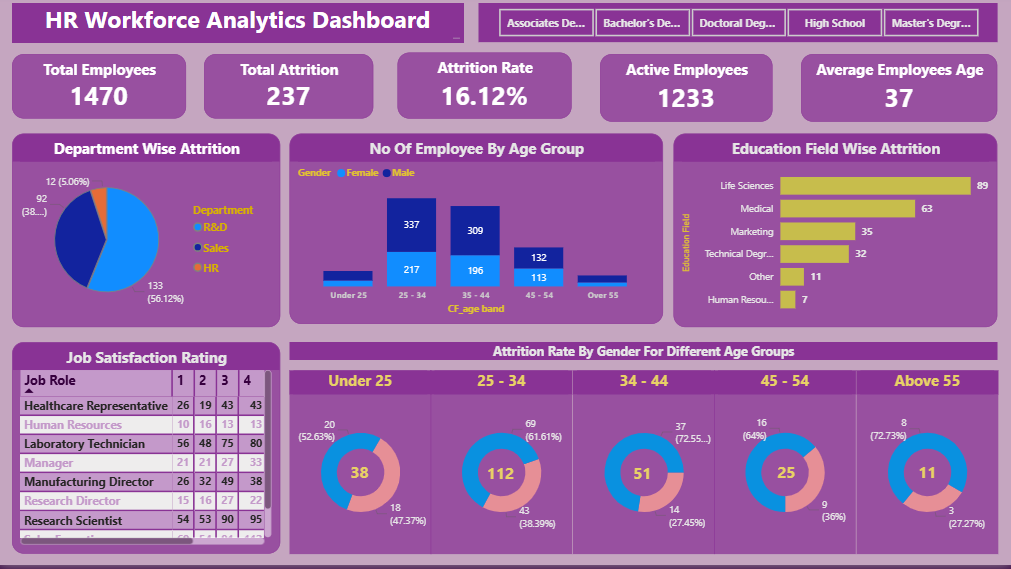

This screenshot's page, from the dashboard's own definition file:
{"tool":"powerbi","page":{"name":"Page 1","canvas":[1280,720],"ordinal":0},"visuals":[{"type":"card","title":"Total Employees","fields":{"Values":["Sum(HR data.Employee Count)"]},"box":[18.9,75.6,219.2,81.3],"z":0},{"type":"card","title":"Total Attrition","fields":{"Values":["Sum(HR data.Attrition Count)"]},"box":[260.8,75.6,213.5,81.3],"z":1000},{"type":"card","title":"Attrition Rate","fields":{"Values":["HR data.Attrition Rate"]},"box":[504.6,73.7,219.2,83.2],"z":2000},{"type":"card","title":"Active Employees","fields":{"Values":["HR data.Active Employees"]},"box":[759.7,75.6,217.3,85],"z":3000},{"type":"card","title":"Average Employees Age","fields":{"Values":["Avg(HR data.Age)"]},"box":[1012.9,75.6,247.6,85],"z":4000},{"type":"pieChart","title":"Department Wise Attrition ","fields":{"Category":["HR data.Department"],"Y":["Sum(HR data.Attrition Count)"]},"box":[18.9,175.7,338.3,243.8],"z":5000},{"type":"columnChart","title":"No Of Employee By Age Group","fields":{"Category":["HR data.CF_age band"],"Y":["Sum(HR data.Employee Count)"],"Series":["HR data.Gender"]},"box":[368.5,175.7,470.6,240],"z":6000},{"type":"pivotTable","title":"Job Satisfaction Rating","fields":{"Rows":["HR data.Job Role"],"Columns":["HR data.Job Satisfaction"],"Values":["Sum(HR data.Employee Count)"]},"box":[18.9,438.4,338.3,266.5],"z":7000},{"type":"barChart","title":"Education Field Wise Attrition  ","fields":{"Category":["HR data.Education Field"],"Y":["Sum(HR data.Attrition Count)"]},"box":[852.3,175.7,408.2,243.8],"z":8000},{"type":"donutChart","title":"Under 25","fields":{"Category":["HR data.Gender"],"Y":["Sum(HR data.Attrition Count)"],"Series":["HR data.CF_age band"]},"box":[368.2,474.5,178.4,231.6],"z":9000},{"type":"textbox","title":"Attrition Rate By Gender For Different Age Groups","box":[368.2,438.5,892.1,22.8],"z":10000},{"type":"donutChart","title":"25 - 34","fields":{"Category":["HR data.Gender"],"Y":["Sum(HR data.Attrition Count)"],"Series":["HR data.CF_age band"]},"box":[546.7,474.5,178.4,231.6],"z":11000},{"type":"donutChart","title":"34 - 44","fields":{"Category":["HR data.Gender"],"Y":["Sum(HR data.Attrition Count)"],"Series":["HR data.CF_age band"]},"box":[725.1,474.5,178.4,231.6],"z":12000},{"type":"donutChart","title":"45 - 54","fields":{"Category":["HR data.Gender"],"Y":["Sum(HR data.Attrition Count)"],"Series":["HR data.CF_age band"]},"box":[903.5,474.5,178.4,231.6],"z":13000},{"type":"donutChart","title":"Above 55","fields":{"Category":["HR data.Gender"],"Y":["Sum(HR data.Attrition Count)"],"Series":["HR data.CF_age band"]},"box":[1082,474.5,178.4,231.6],"z":14000},{"type":"card","fields":{"Values":["Sum(HR data.Attrition Count)"]},"box":[606.6,578.3,54.8,52.9],"z":15000},{"type":"card","fields":{"Values":["Sum(HR data.Attrition Count)"]},"box":[429,576.4,54.8,52.9],"z":16000},{"type":"card","fields":{"Values":["Sum(HR data.Attrition Count)"]},"box":[784.3,578.3,56.7,52.9],"z":17000},{"type":"card","fields":{"Values":["Sum(HR data.Attrition Count)"]},"box":[960,576.4,68,52.9],"z":18000},{"type":"card","fields":{"Values":["Sum(HR data.Attrition Count)"]},"box":[1143.3,576.4,56.7,52.9],"z":19000},{"type":"textbox","title":"HR Workforce Analytics Dashboard","box":[18.9,11.3,568.8,49.1],"z":20000},{"type":"slicer","fields":{"Values":["HR data.Education"]},"box":[606.6,11.3,653.9,49.1],"z":21000}]}

Visuals, with their boxes in screenshot pixels (x1, y1, x2, y2), scaled from the page's 1280x720 canvas onto the 1011x569 screenshot:
"Total Employees" card: (15,60,188,124)
"Total Attrition" card: (206,60,375,124)
"Attrition Rate" card: (399,58,572,124)
"Active Employees" card: (600,60,772,127)
"Average Employees Age" card: (800,60,996,127)
"Department Wise Attrition " pieChart: (15,139,282,332)
"No Of Employee By Age Group" columnChart: (291,139,663,329)
"Job Satisfaction Rating" pivotTable: (15,346,282,557)
"Education Field Wise Attrition  " barChart: (673,139,996,332)
"Under 25" donutChart: (291,375,432,558)
"Attrition Rate By Gender For Different Age Groups" textbox: (291,347,995,365)
"25 - 34" donutChart: (432,375,573,558)
"34 - 44" donutChart: (573,375,714,558)
"45 - 54" donutChart: (714,375,855,558)
"Above 55" donutChart: (855,375,996,558)
card - Sum(HR data.Attrition Count): (479,457,522,499)
card - Sum(HR data.Attrition Count): (339,456,382,497)
card - Sum(HR data.Attrition Count): (619,457,664,499)
card - Sum(HR data.Attrition Count): (758,456,812,497)
card - Sum(HR data.Attrition Count): (903,456,948,497)
"HR Workforce Analytics Dashboard" textbox: (15,9,464,48)
slicer - HR data.Education: (479,9,996,48)
